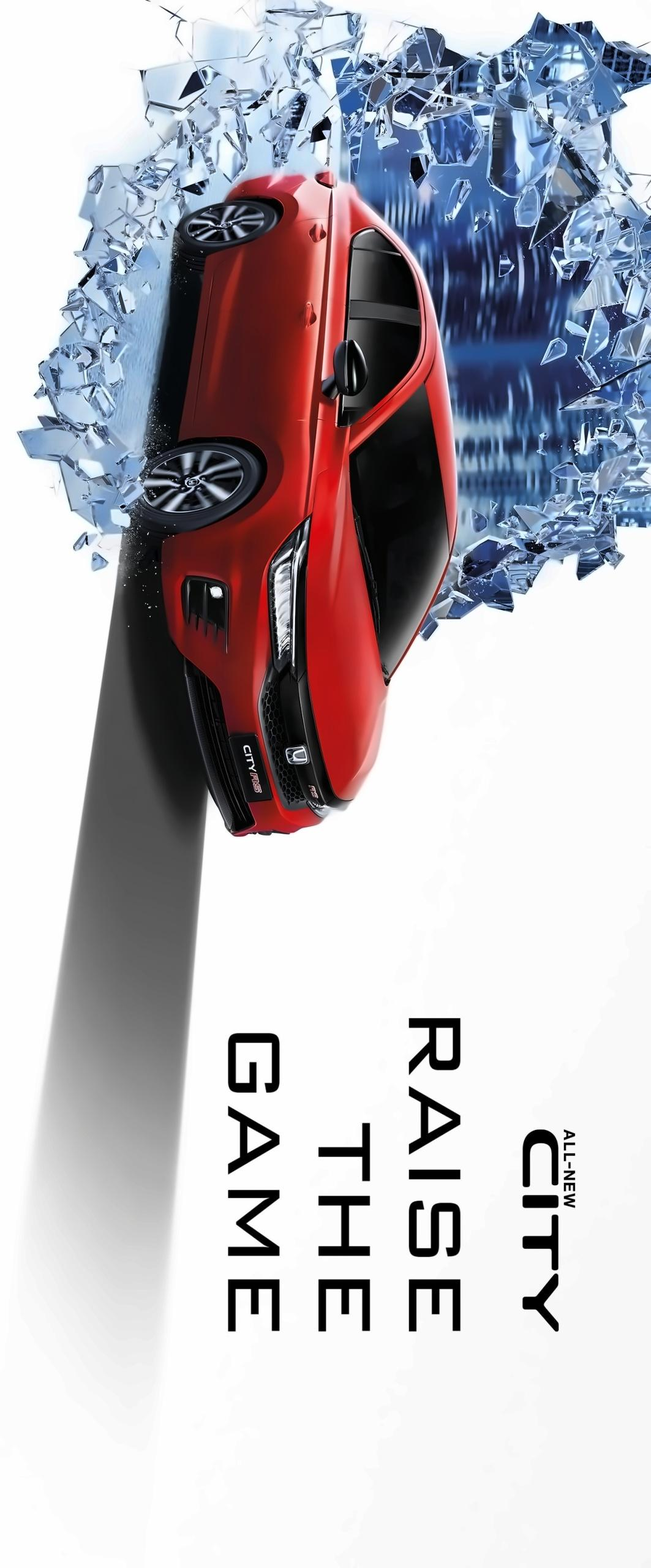Car hood: (298, 448, 390, 813)
Driver-s door - -F-R-: (171, 305, 444, 436)
Fender - -F-R-: (173, 419, 350, 532)
Fender - -R-R-: (205, 177, 378, 242)
Front bumper: (151, 512, 329, 842)
Headlight - -R-: (263, 514, 313, 678)
Passenger-s door - -R-R-: (183, 226, 434, 324)
Side bumper - -R-: (166, 246, 237, 440)
Side mirror - -R-: (319, 331, 367, 407)
